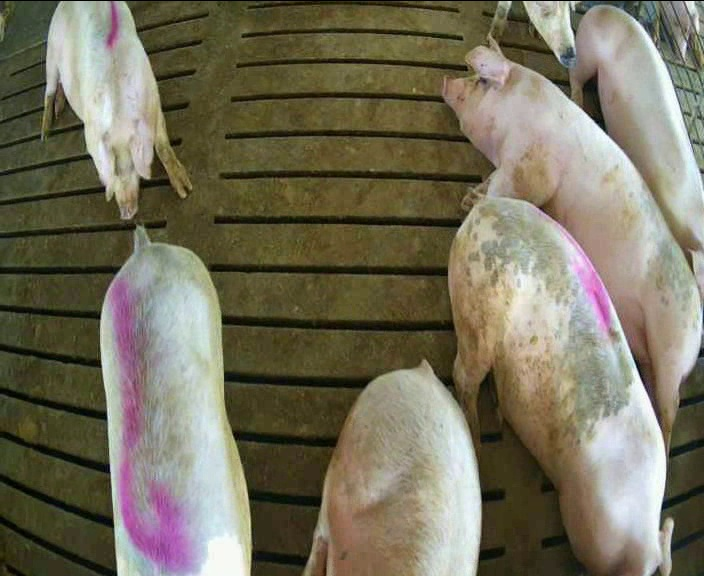pig: (449, 192, 673, 575), (101, 226, 249, 574), (570, 6, 703, 299), (305, 360, 480, 574), (42, 2, 191, 218)
